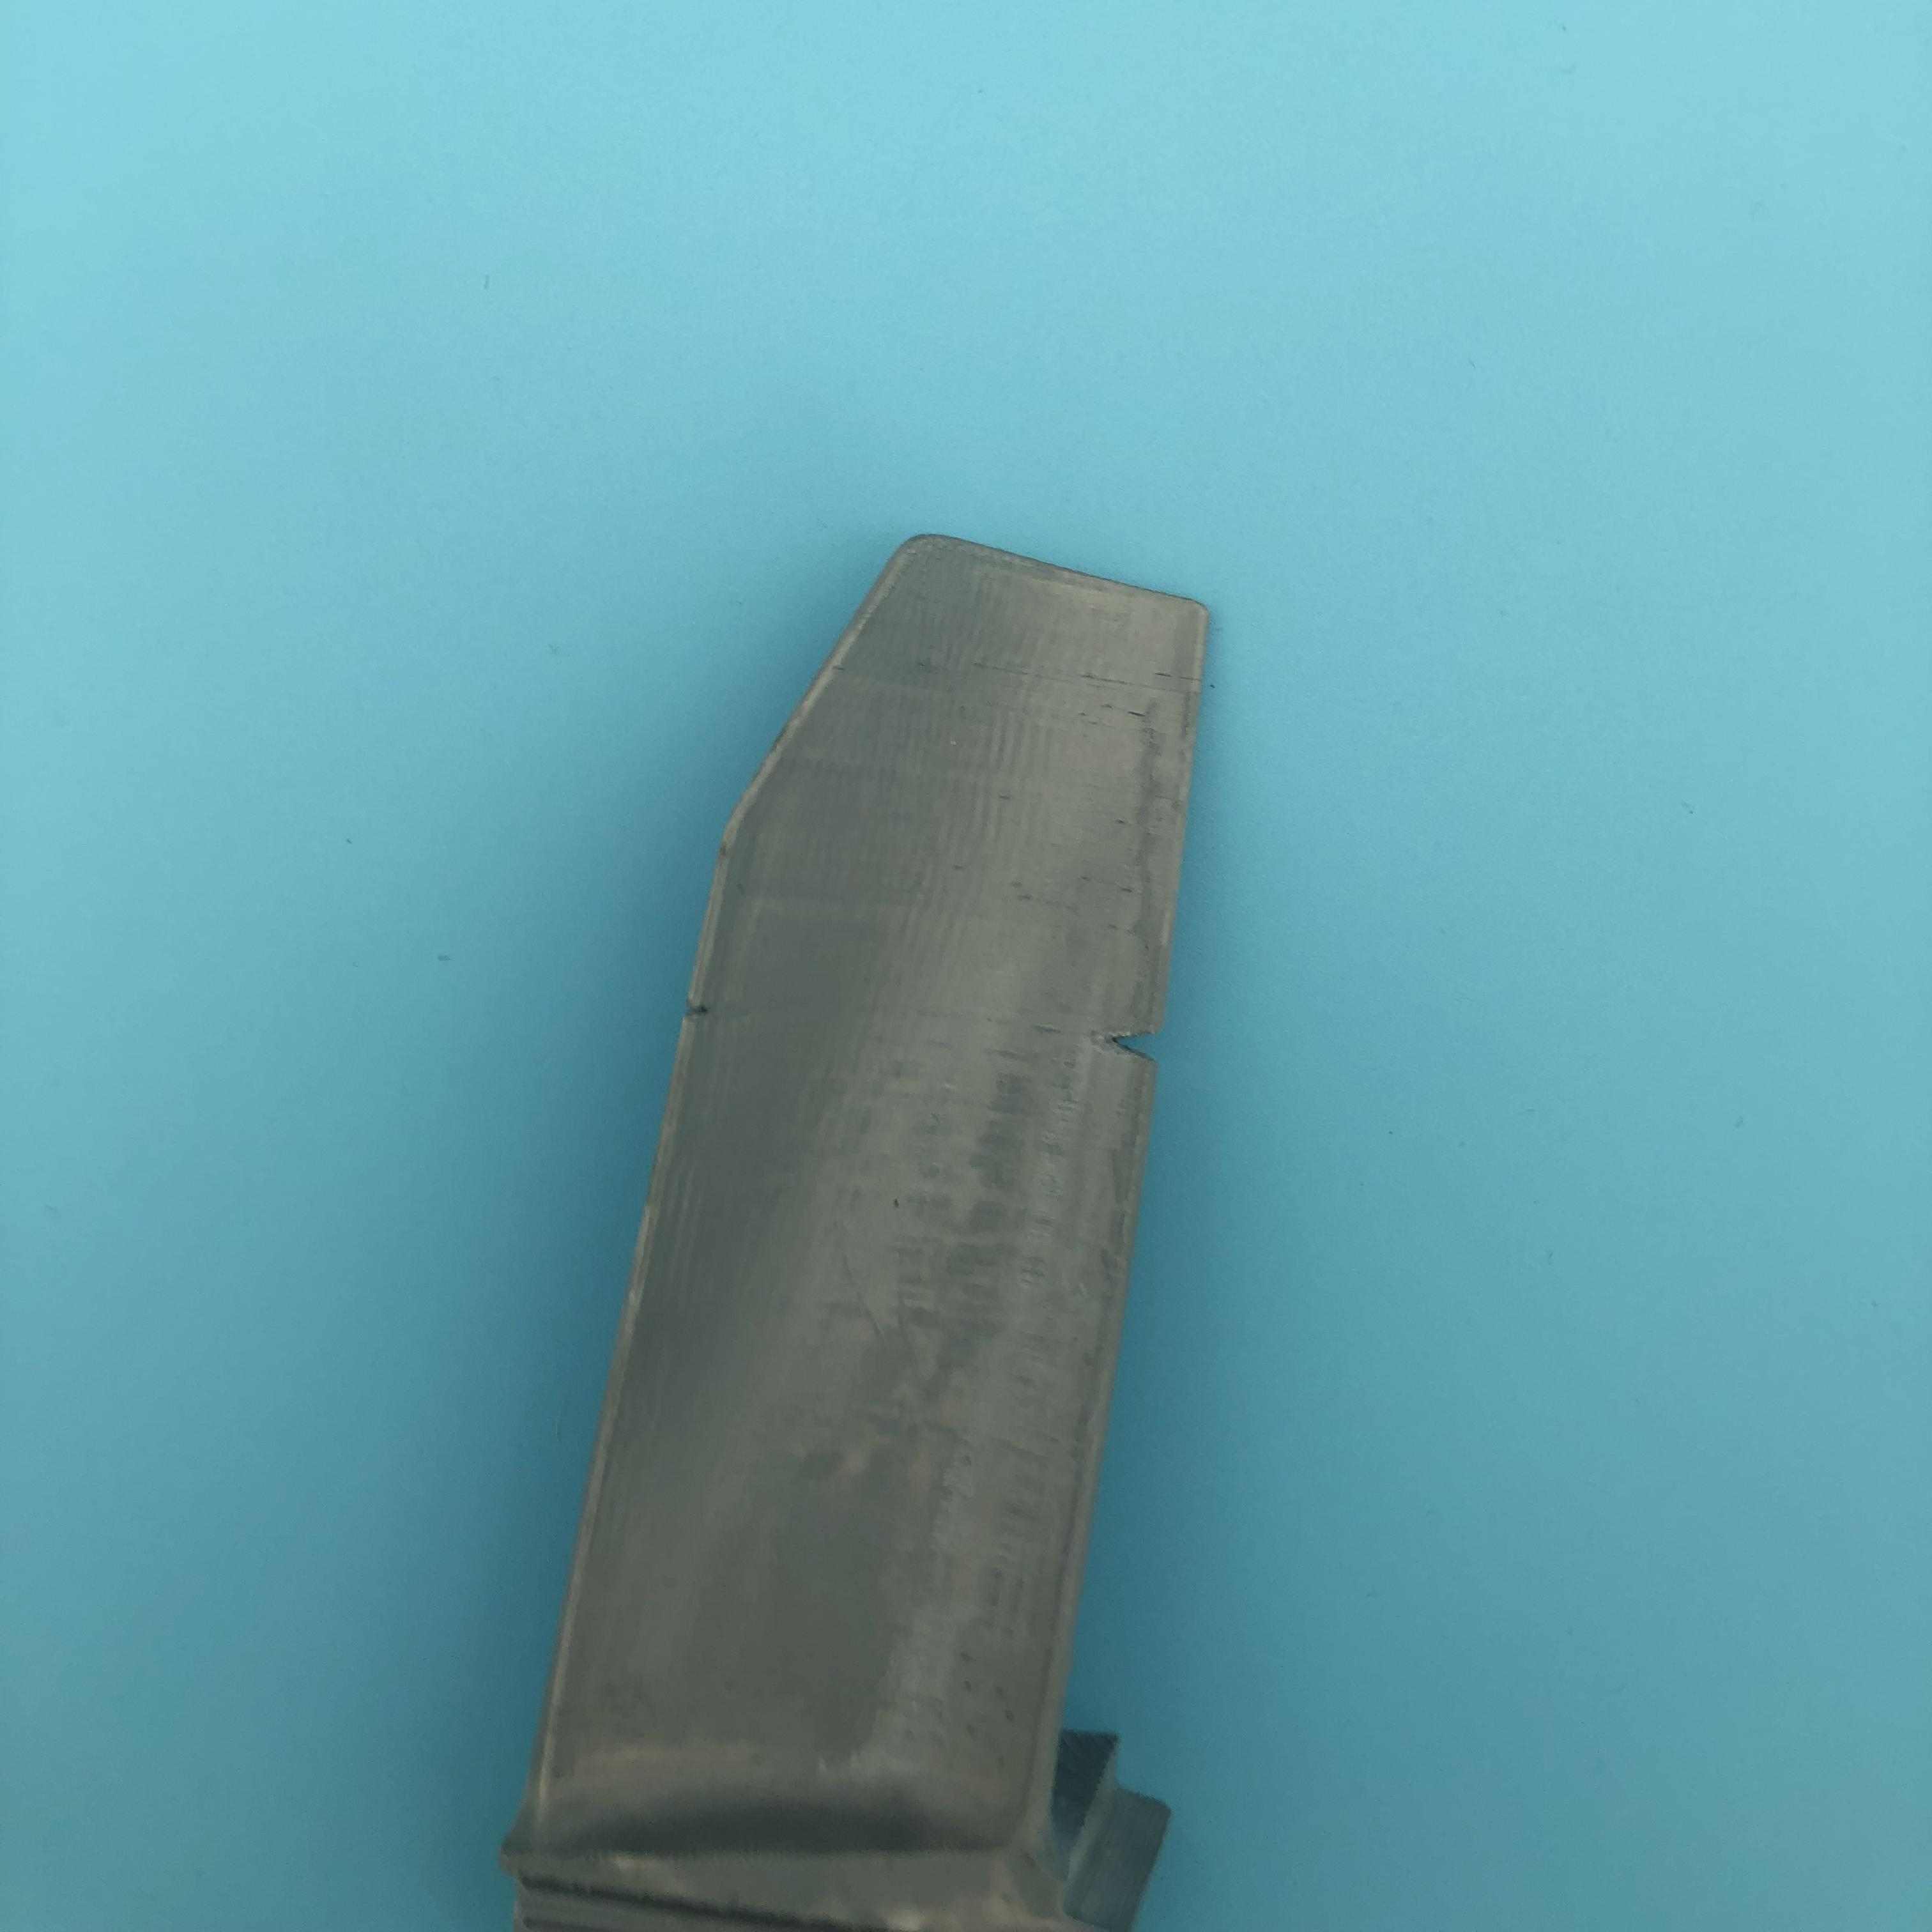groove: (1102, 1019, 1152, 1065), (688, 994, 713, 1026)
